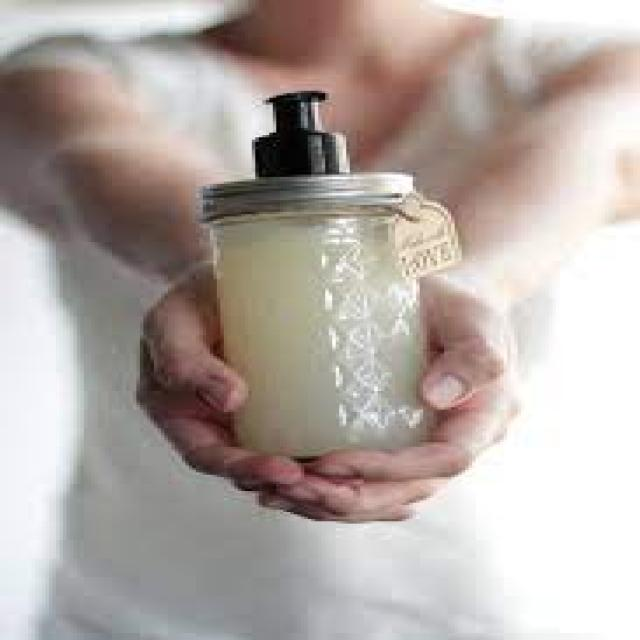liquid soap: (186, 80, 464, 462)
